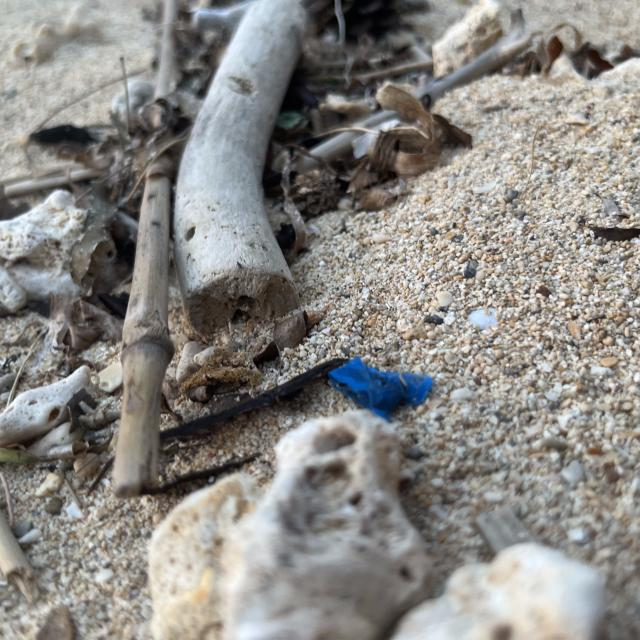coral: (1, 366, 90, 451)
rock: (145, 415, 437, 639), (384, 542, 613, 640)
stick: (170, 0, 316, 337), (109, 0, 196, 491)
trash: (325, 354, 435, 429)
